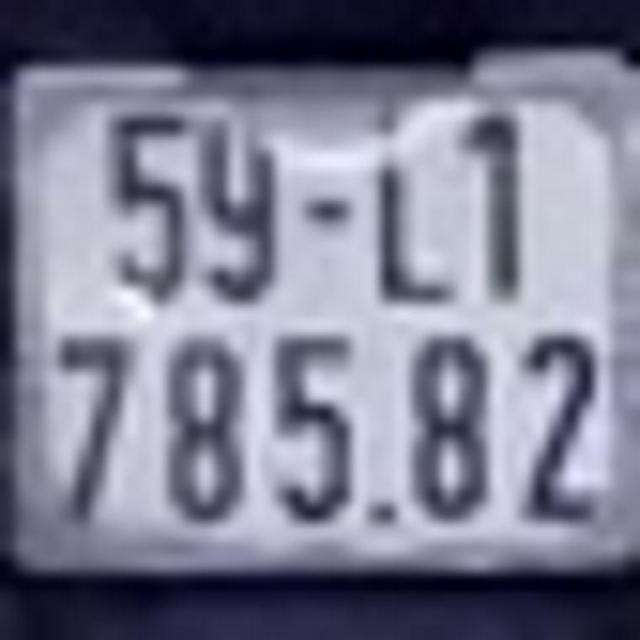1: (464, 104, 532, 308)
2: (515, 327, 605, 528)
5: (96, 105, 195, 306), (265, 324, 359, 524)
7: (49, 322, 139, 527)
8: (402, 322, 497, 525), (158, 321, 253, 522)
9: (200, 105, 282, 306)
L: (366, 88, 462, 312)
